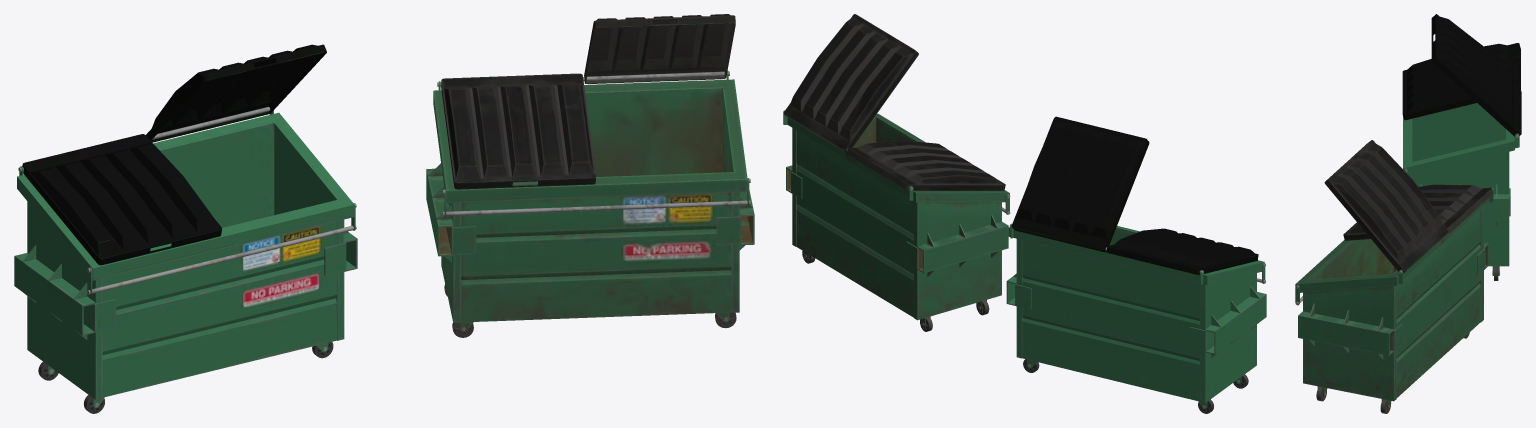
Rendered from dumpster.glb.
The picture shows the model from 3 angles, left to right: view 1: azimuth 30°, elevation 25°; view 2: azimuth 150°, elevation 25°; view 3: azimuth 270°, elevation 25°; orthographic projection. The views are drawn at different scales.
Parts seen in each view (by area): view 1: Base_01_Dumpster_01_0, Base_02_Dumpster_02_0, Cap_03_Dumpster_02_0, Cap_01_Dumpster_01_0, Cap_04_Dumpster_02_0, Cap_02_Dumpster_01_0; view 2: Base_01_Dumpster_01_0, Base_02_Dumpster_02_0, Cap_02_Dumpster_01_0, Cap_04_Dumpster_02_0, Cap_03_Dumpster_02_0, Cap_01_Dumpster_01_0; view 3: Base_02_Dumpster_02_0, Base_01_Dumpster_01_0, Cap_04_Dumpster_02_0, Cap_02_Dumpster_01_0, Cap_01_Dumpster_01_0, Cap_03_Dumpster_02_0.
Part boxes in pixels (bbox=[...]): Base_01_Dumpster_01_0: bbox=[14, 107, 357, 399]; Base_02_Dumpster_02_0: bbox=[426, 71, 754, 322]; Cap_03_Dumpster_02_0: bbox=[441, 73, 595, 189]; Cap_01_Dumpster_01_0: bbox=[22, 134, 221, 265]; Cap_04_Dumpster_02_0: bbox=[584, 14, 735, 83]; Cap_02_Dumpster_01_0: bbox=[146, 44, 326, 142]; Base_01_Dumpster_01_0: bbox=[1006, 223, 1266, 402]; Base_02_Dumpster_02_0: bbox=[783, 110, 1010, 320]; Cap_02_Dumpster_01_0: bbox=[1011, 116, 1149, 252]; Cap_04_Dumpster_02_0: bbox=[783, 14, 918, 152]; Cap_03_Dumpster_02_0: bbox=[846, 140, 1005, 190]; Cap_01_Dumpster_01_0: bbox=[1106, 228, 1258, 274]; Base_02_Dumpster_02_0: bbox=[1295, 188, 1493, 401]; Base_01_Dumpster_01_0: bbox=[1403, 103, 1519, 266]; Cap_04_Dumpster_02_0: bbox=[1324, 140, 1448, 273]; Cap_02_Dumpster_01_0: bbox=[1431, 14, 1521, 136]; Cap_01_Dumpster_01_0: bbox=[1402, 43, 1520, 120]; Cap_03_Dumpster_02_0: bbox=[1343, 184, 1493, 240].
Bounding box in the file's own units: 4.94 × 2.23 × 2.02.
2 materials, 2 textured.
